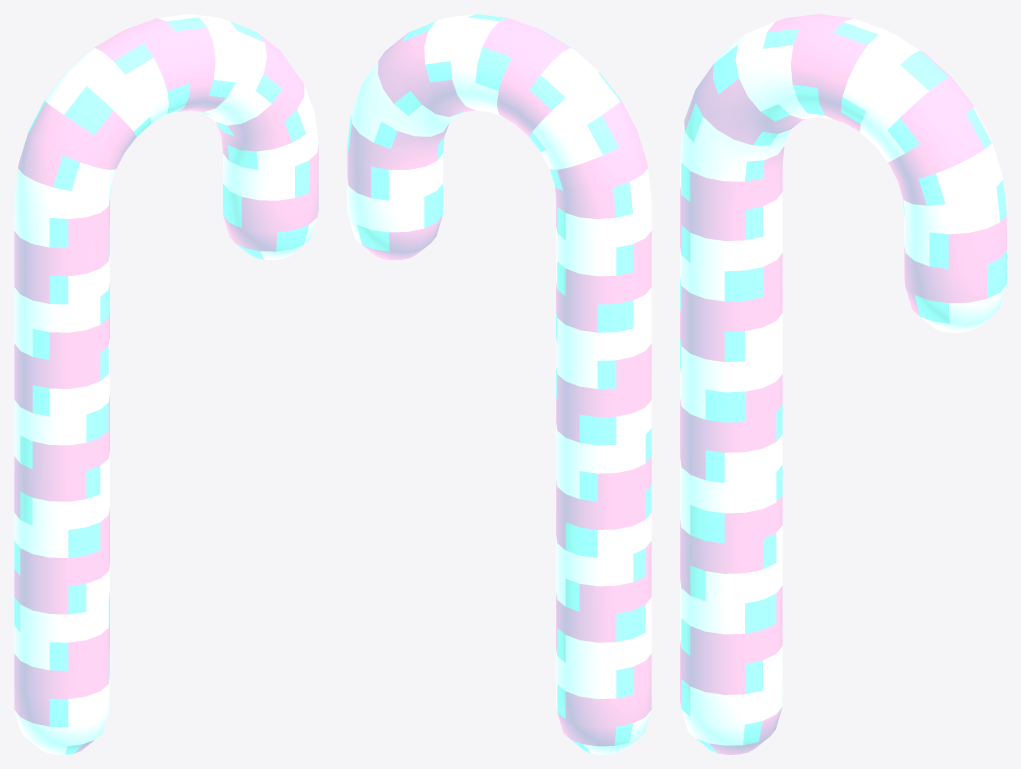
The model's file is props__CandyCane.glb.
3 views of the same model, side by side, from view 1: azimuth 30°, elevation 25°; view 2: azimuth 150°, elevation 25°; view 3: azimuth 330°, elevation 25° (orthographic). The views are drawn at different scales.
Parts seen in each view (by area): view 1: CandyCane; view 2: CandyCane; view 3: CandyCane.
Boxes of the visible parts, x1,y1,x2,y2 form: CandyCane: (14,14,318,754); CandyCane: (347,14,651,754); CandyCane: (680,14,1006,754).
Bounding box in the file's own units: 4.34 × 9.99 × 1.24.
